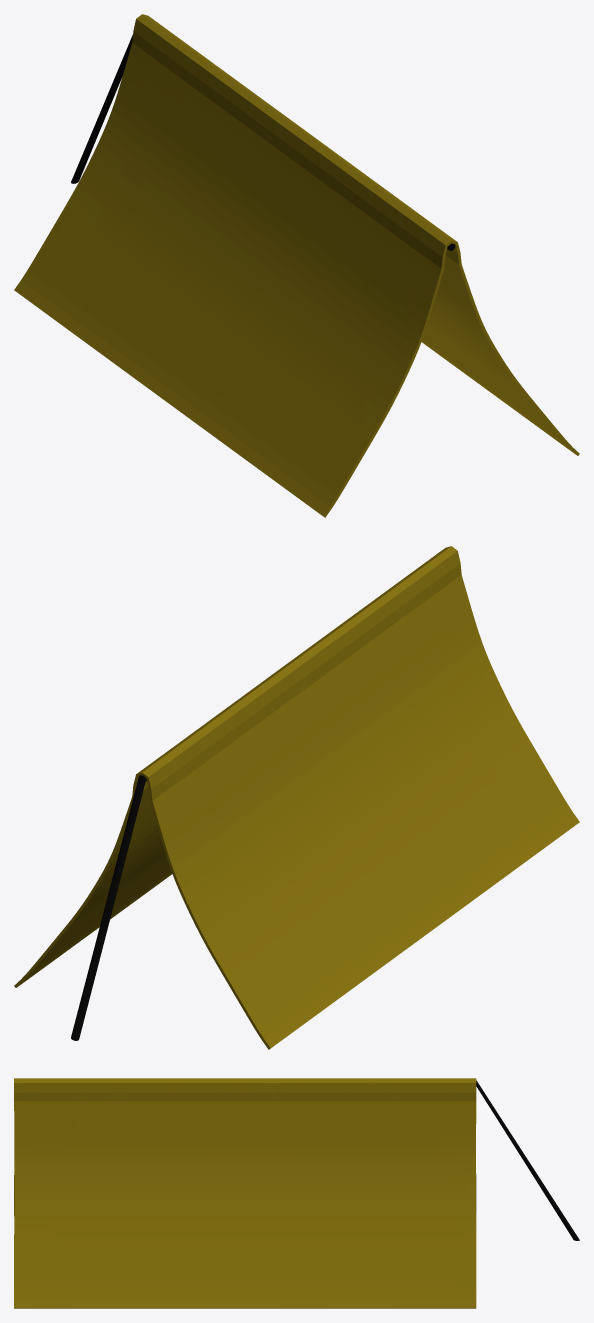
Rendered from tent.dae.
3 renders of one model, top to bottom at view 1: azimuth 30°, elevation 25°; view 2: azimuth 150°, elevation 25°; view 3: azimuth 270°, elevation 25°, orthographic. The views are drawn at different scales.
Parts seen in each view (by area): view 1: Plane, Cylinder; view 2: Plane, Cylinder; view 3: Plane, Cylinder.
Boxes of the visible parts, x1,y1,x2,y2 form: Plane: [14, 14, 579, 517]; Cylinder: [71, 35, 455, 250]; Plane: [14, 546, 579, 1049]; Cylinder: [71, 775, 146, 1040]; Plane: [14, 1078, 476, 1308]; Cylinder: [476, 1080, 579, 1240].
Bounding box in the file's own units: 1.92 × 4.9 × 1.76.
